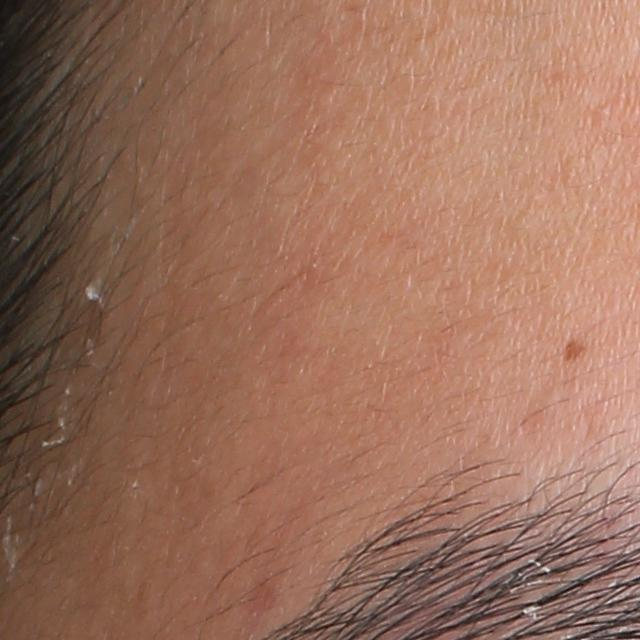nevus: (562, 337, 588, 363)
